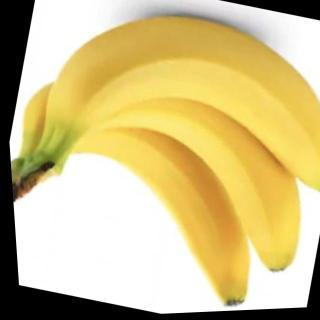banana: (12, 42, 320, 290), (3, 59, 288, 320), (30, 0, 320, 208)
